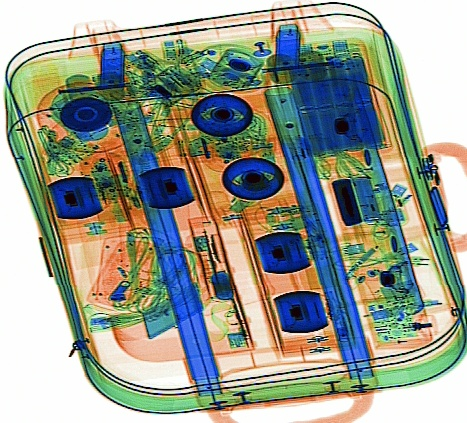powerbank: (279, 32, 393, 159)
